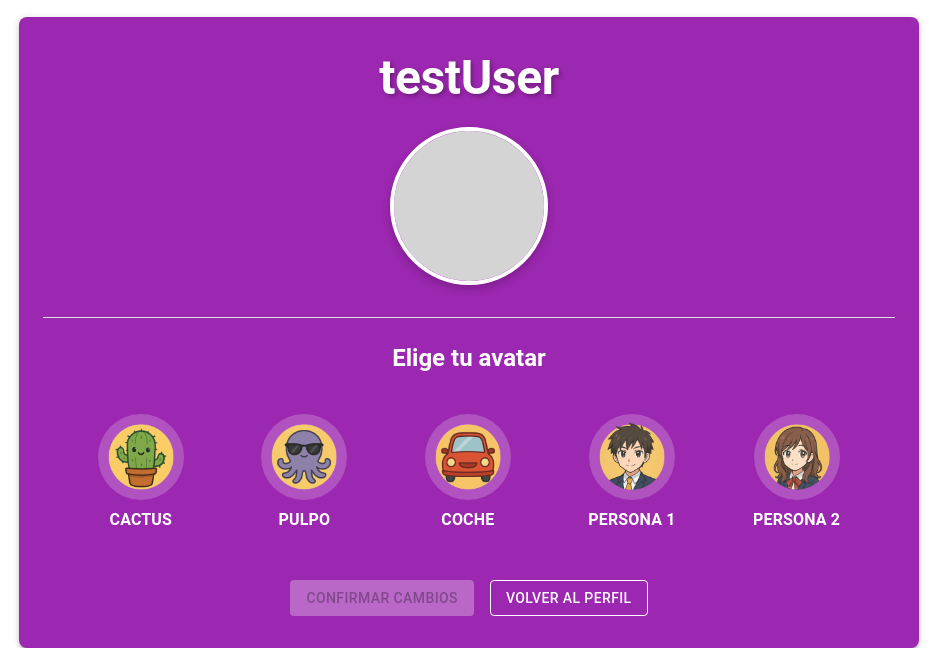
Test case: AvatarSelection component › should handle avatar selection
Click the button with test id "cactus-button" at (141, 473), box [82,398,200,548]
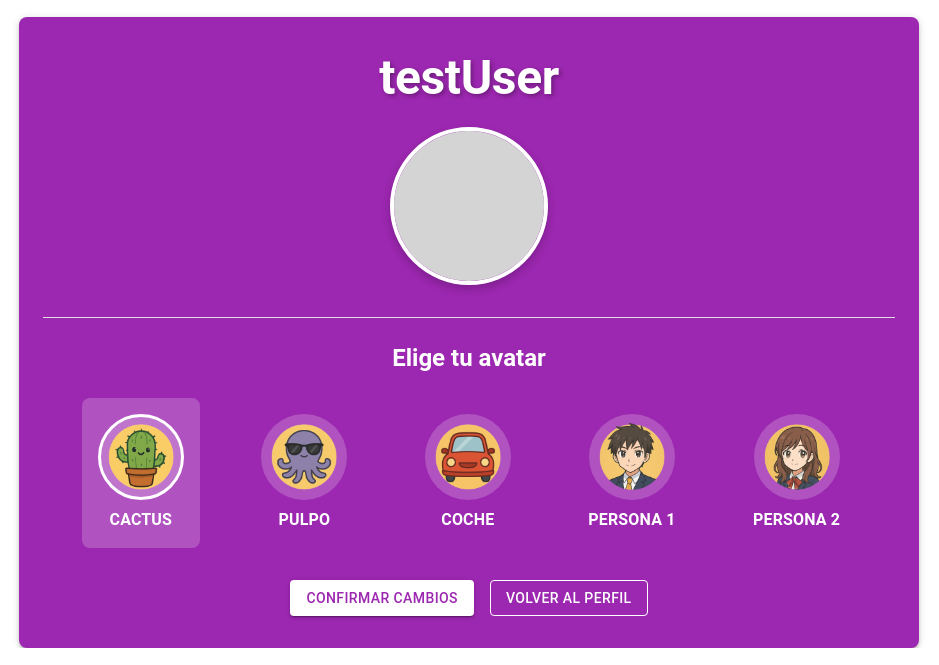
Now the button with test id "confirm-button" is enabled, box [290,580,474,616]
